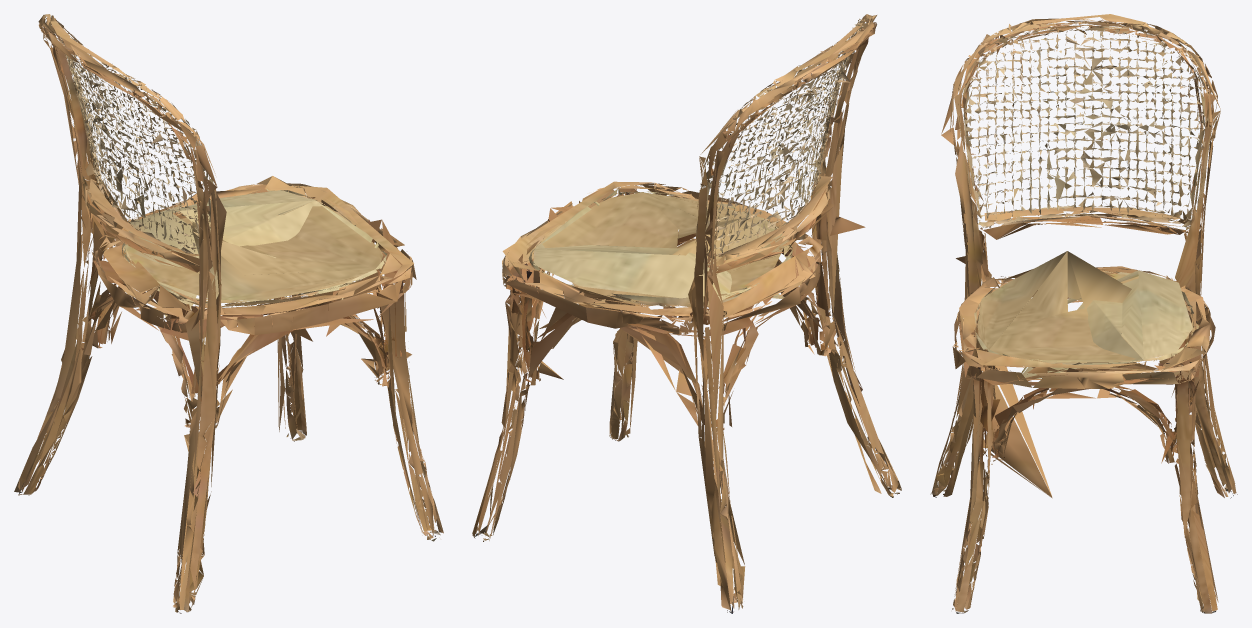
The model's file is chair.glb.
3 views of the same model, side by side, from view 1: azimuth 30°, elevation 25°; view 2: azimuth 150°, elevation 25°; view 3: azimuth 270°, elevation 25° (orthographic). The views are drawn at different scales.
Parts seen in each view (by area): view 1: chair-convcol; view 2: chair-convcol; view 3: chair-convcol.
Boxes of the visible parts, x1=… form: chair-convcol: x1=14, y1=14, x2=443, y2=613; chair-convcol: x1=472, y1=14, x2=901, y2=613; chair-convcol: x1=930, y1=14, x2=1237, y2=613.
Bounding box in the file's own units: 0.6247 × 0.9418 × 0.5591.
Materials: 8 (8 with a texture image).
